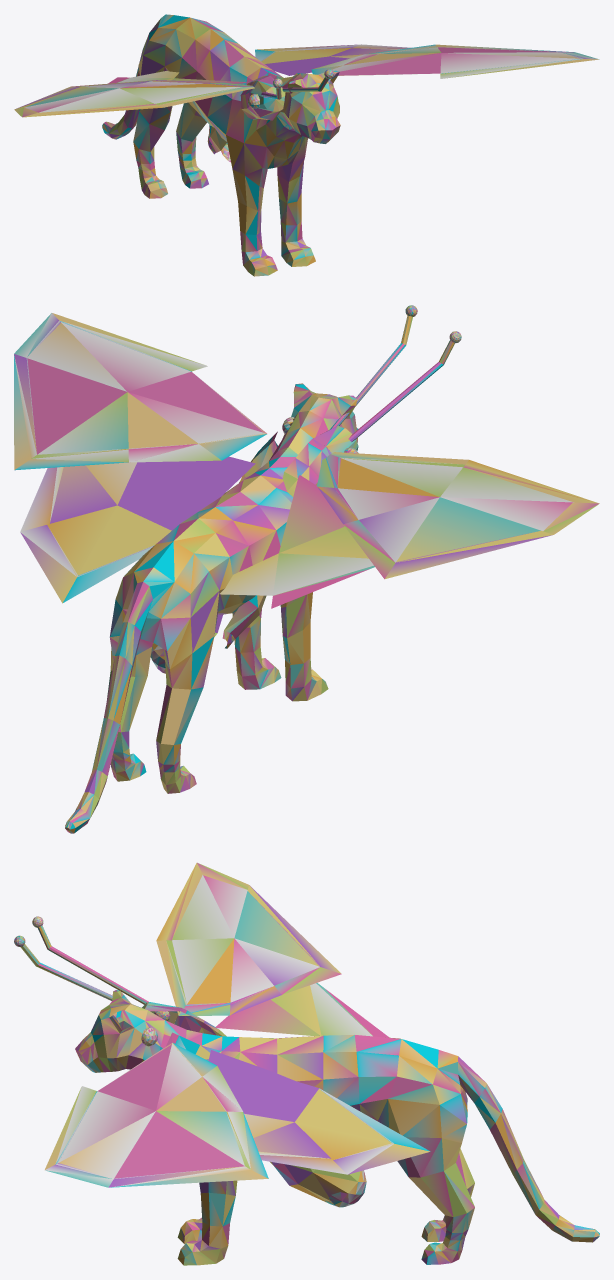
File: alebrije_jaguar_winged.glb
3 renders of one model, top to bottom at view 1: azimuth 30°, elevation 25°; view 2: azimuth 150°, elevation 25°; view 3: azimuth 270°, elevation 25°, orthographic. The views are drawn at different scales.
Visible parts, largest first — view 1: Jaguar_mesh, group1115380185.001, group1115380185.002; view 2: group1115380185.001, Jaguar_mesh, group1115380185.002; view 3: group1115380185.001, Jaguar_mesh, group1115380185.002.
Part boxes in pixels (left/top/right/bottom): Jaguar_mesh: left=102, top=14, right=340, bottom=276; group1115380185.001: left=221, top=44, right=599, bottom=162; group1115380185.002: left=14, top=69, right=334, bottom=154; group1115380185.001: left=14, top=313, right=294, bottom=673; Jaguar_mesh: left=65, top=383, right=357, bottom=833; group1115380185.002: left=220, top=305, right=599, bottom=648; group1115380185.001: left=45, top=1027, right=430, bottom=1207; Jaguar_mesh: left=75, top=990, right=599, bottom=1265; group1115380185.002: left=14, top=862, right=389, bottom=1037.
Bounding box in the file's own units: 3.12 × 1.5 × 2.68.
